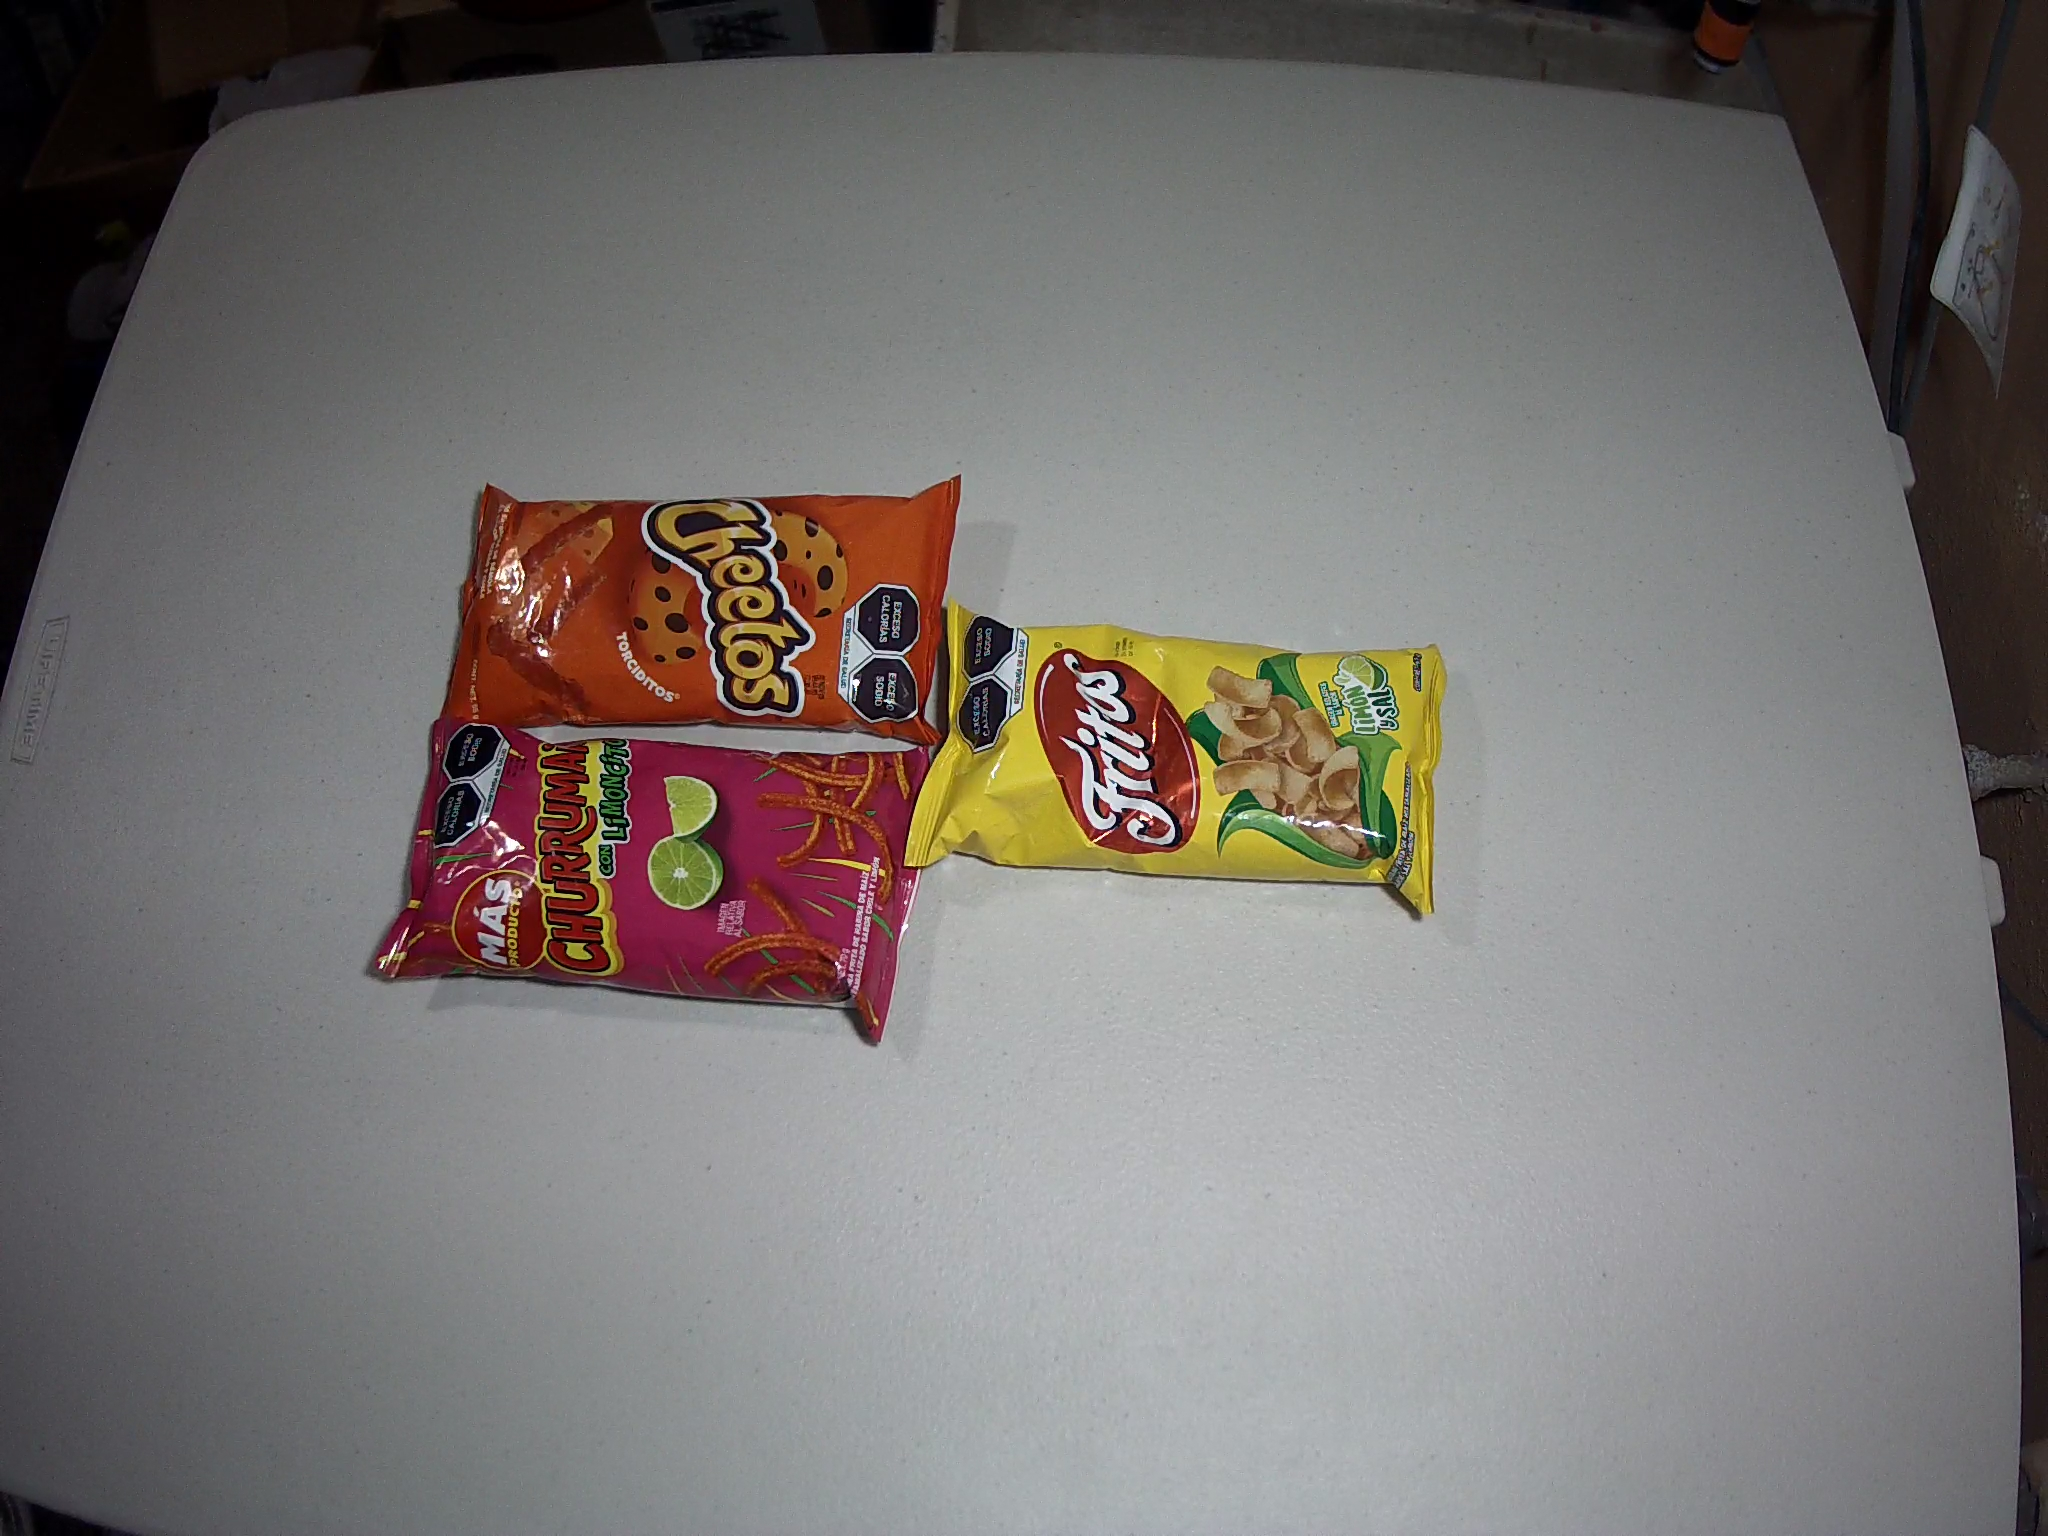CheetosTorciditos_55_F: (439, 473, 968, 747)
Churrumais_70_F: (373, 710, 953, 1046)
FritosSalLimon_65_F: (901, 599, 1447, 918)
